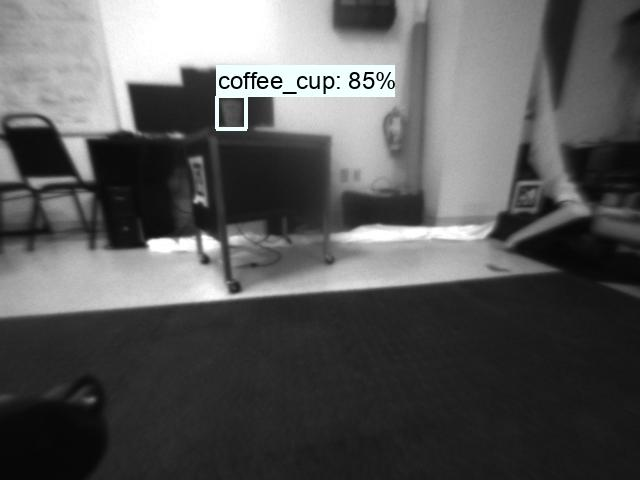coffee_cup: (217, 96, 246, 127)
